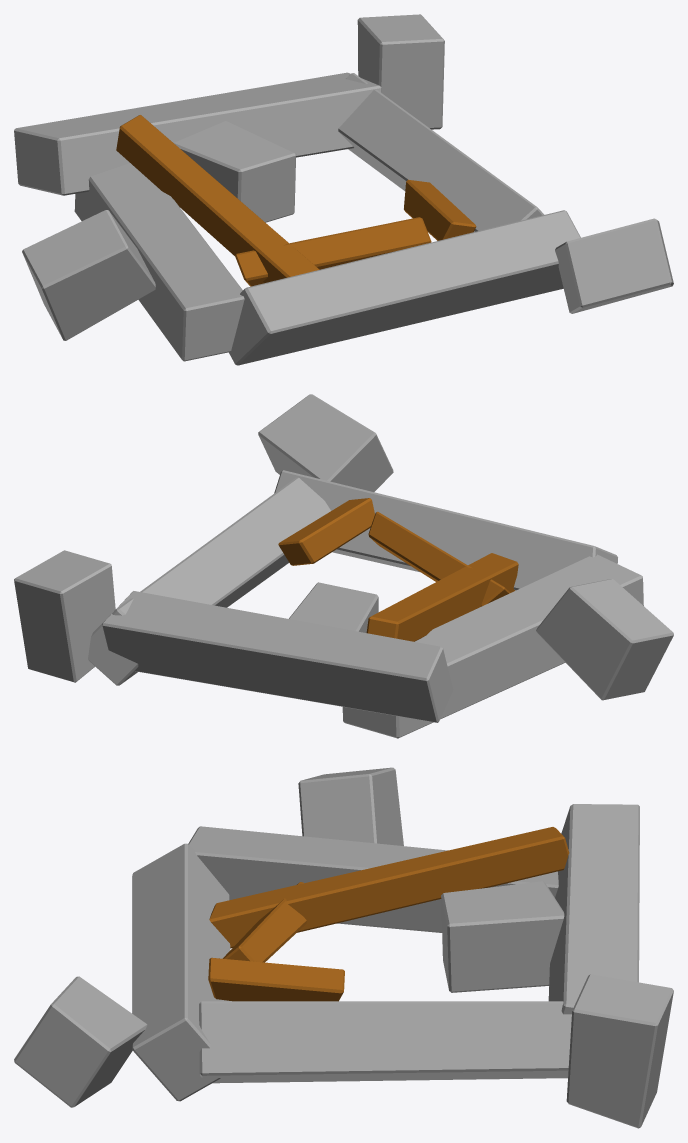
File: princess_tower_destroyed.fbx
3 views of the same model, one above another, from view 1: azimuth 30°, elevation 25°; view 2: azimuth 150°, elevation 25°; view 3: azimuth 270°, elevation 25° (orthographic). The views are drawn at different scales.
Parts seen in each view (by area): view 1: big_rubble.003, big_rubble.001, big_rubble, big_rubble.002, small_rubble.003, log, small_rubble, small_rubble.002, small_rubble.001, log.001, log.002; view 2: big_rubble.001, big_rubble, big_rubble.002, big_rubble.003, small_rubble.003, small_rubble.002, small_rubble, log, log.002, log.001, small_rubble.001; view 3: big_rubble.002, big_rubble.003, log, big_rubble.001, small_rubble.002, big_rubble, small_rubble.001, small_rubble, small_rubble.003, log.002, log.001.
Part boxes in pixels (bbox=[...]): big_rubble.003: bbox=[229, 210, 580, 365]; big_rubble.001: bbox=[14, 72, 381, 195]; big_rubble: bbox=[74, 163, 244, 361]; big_rubble.002: bbox=[338, 73, 544, 231]; small_rubble.003: bbox=[22, 210, 155, 340]; log: bbox=[116, 115, 319, 282]; small_rubble: bbox=[555, 218, 673, 313]; small_rubble.002: bbox=[357, 14, 444, 129]; small_rubble.001: bbox=[174, 121, 296, 222]; log.001: bbox=[235, 217, 431, 286]; log.002: bbox=[404, 179, 476, 240]; big_rubble.001: bbox=[102, 591, 453, 722]; big_rubble: bbox=[342, 554, 643, 738]; big_rubble.002: bbox=[88, 477, 330, 685]; big_rubble.003: bbox=[274, 470, 617, 590]; small_rubble.003: bbox=[536, 579, 673, 700]; small_rubble.002: bbox=[14, 550, 115, 682]; small_rubble: bbox=[258, 394, 393, 491]; log: bbox=[366, 553, 518, 641]; log.002: bbox=[278, 498, 374, 565]; log.001: bbox=[368, 511, 510, 606]; small_rubble.001: bbox=[289, 582, 378, 632]; big_rubble.002: bbox=[199, 1001, 571, 1083]; big_rubble.003: bbox=[132, 843, 230, 1101]; log: bbox=[209, 827, 569, 948]; big_rubble.001: bbox=[548, 804, 639, 1014]; small_rubble.002: bbox=[566, 974, 673, 1128]; big_rubble: bbox=[188, 826, 558, 932]; small_rubble.001: bbox=[441, 881, 564, 992]; small_rubble: bbox=[14, 976, 147, 1107]; small_rubble.003: bbox=[298, 767, 403, 845]; log.002: bbox=[208, 957, 344, 1001]; log.001: bbox=[223, 882, 306, 962].
Size of the model in its own units: 285 by 57.78 by 275.
